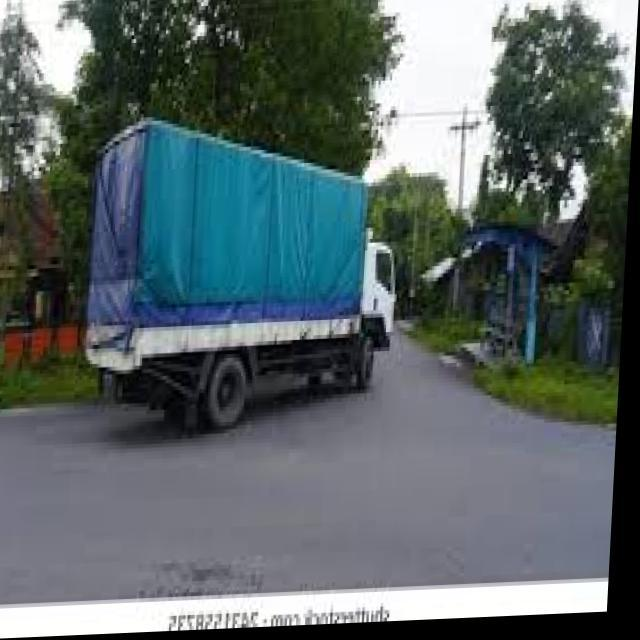covered: (82, 106, 410, 437)
